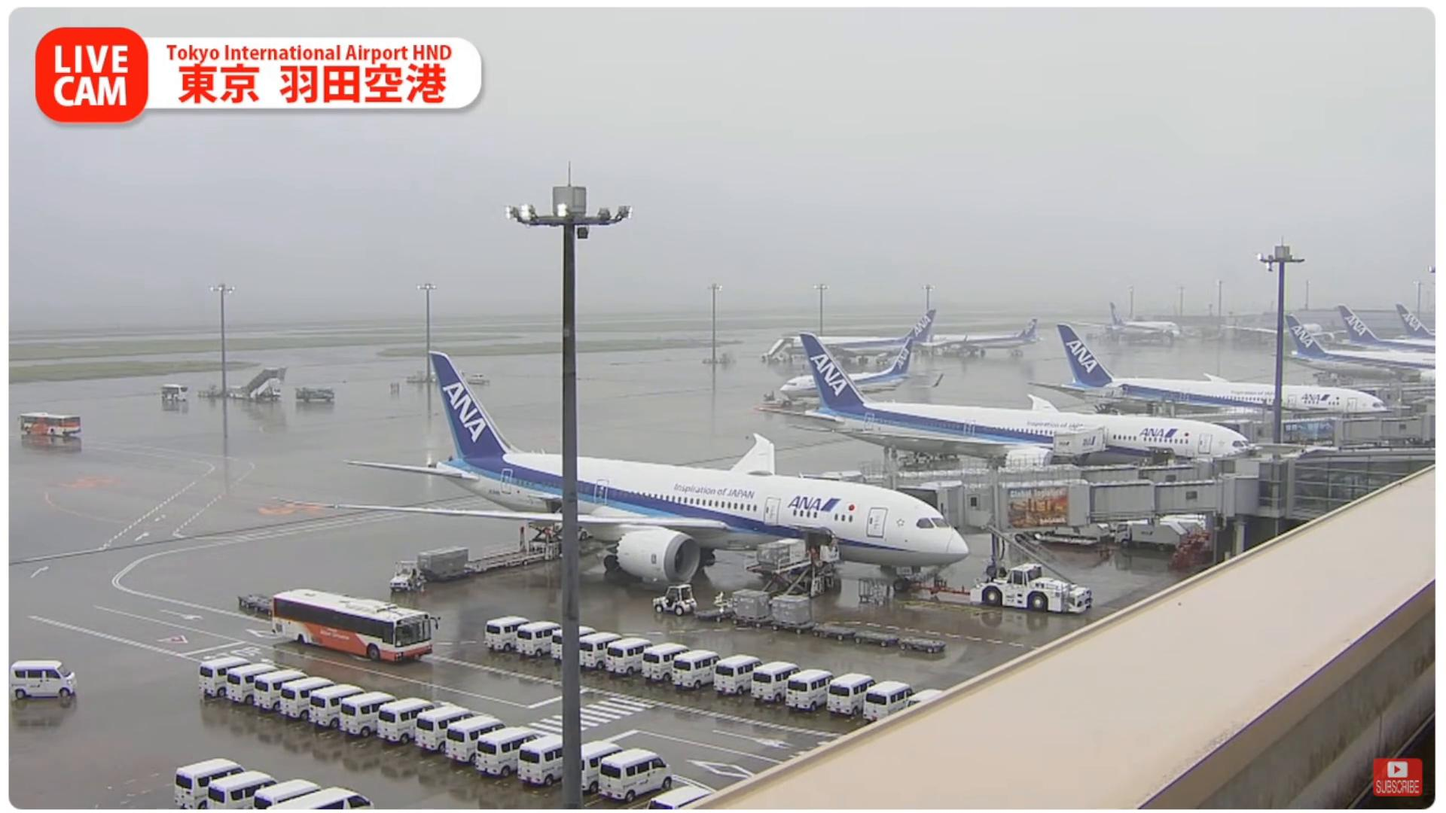APS: (968, 562, 1094, 614)
Aerobridge: (892, 474, 1261, 535), (796, 455, 1210, 487)
Airplane: (270, 351, 970, 592)
Dolly: (693, 601, 947, 653), (423, 565, 474, 580)
JCPL: (726, 552, 838, 607), (462, 522, 563, 573)
Tractor: (653, 583, 701, 615), (387, 561, 424, 591)
Window: (1292, 458, 1433, 516)
